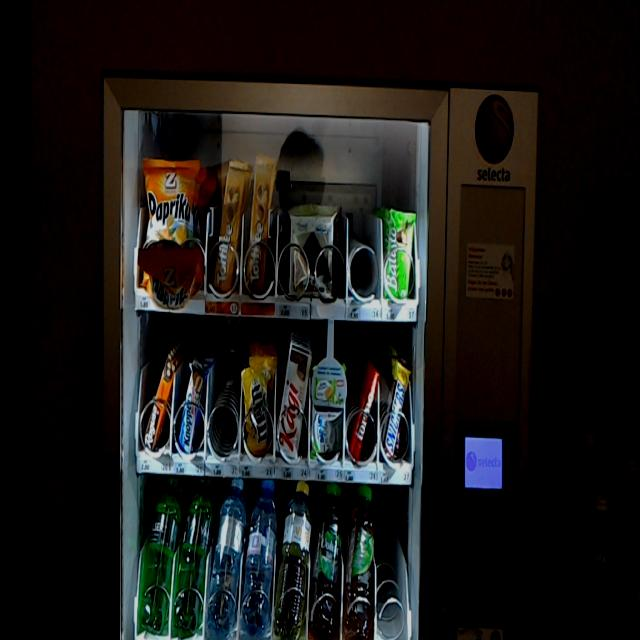balisto_muesli__37g__5000159418546: (384, 209, 412, 298)
berger_bruensli____: (288, 207, 334, 300)
darwida_sandwich____7610032065170: (311, 361, 344, 454)
evian___50__3068320353500: (242, 477, 277, 632)
kagi___50__7610046000259: (278, 347, 311, 455)
knoppers_riegel____4035800488808: (175, 363, 208, 453)
mnms_gelb__45__40111445: (242, 364, 269, 456)
ragusa___50__76401121: (144, 353, 172, 453)
snickers___50__5000159461122: (380, 363, 410, 460)
toffifee___33__4014400924275: (212, 161, 248, 292), (245, 154, 275, 302)
torino___46__76415272: (350, 365, 379, 458)
valser_classic__50__76404160: (141, 473, 178, 630), (178, 475, 214, 631)
valser_still__50__7610335002575: (212, 475, 246, 631)
valser_vivabirne__50__7610335001530: (278, 479, 314, 634)
volvic_teeminze__50__3057640335648: (310, 482, 344, 631), (343, 482, 373, 634)
zweifel_paprika__90__7610095013002: (141, 156, 198, 289)
